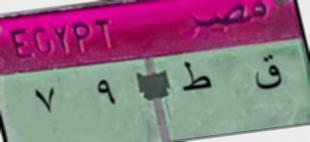7: (29, 84, 62, 116)
9: (92, 74, 122, 110)
Taa: (173, 57, 215, 97)
qaaf: (247, 49, 285, 96)
